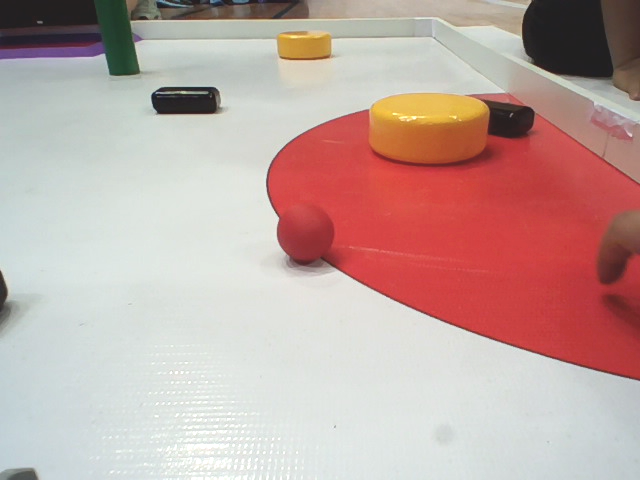black: (466, 96, 541, 134), (149, 83, 224, 116)
kuang: (1, 27, 146, 64)
red: (279, 197, 336, 263)
yellow: (365, 92, 494, 165), (275, 28, 335, 63)
zhuzi: (92, 1, 142, 78)
